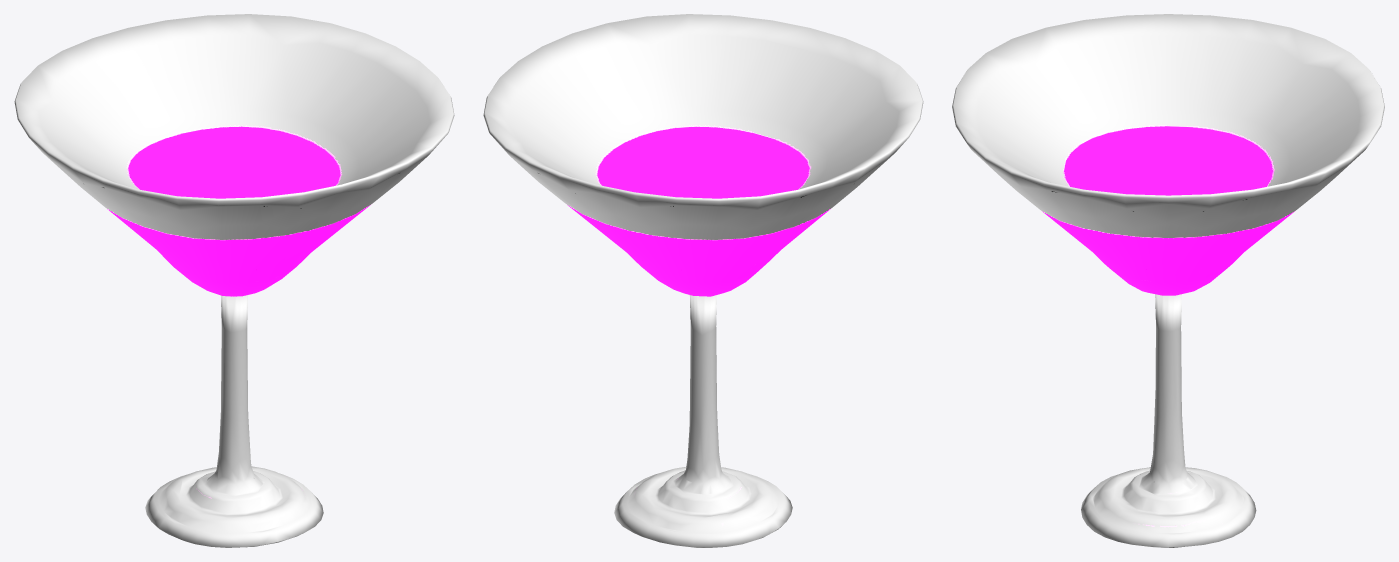
File: drink3_re.fbx
3 renders of one model, left to right at view 1: azimuth 30°, elevation 25°; view 2: azimuth 150°, elevation 25°; view 3: azimuth 270°, elevation 25°, orthographic.
Visible parts, largest first — view 1: drink3_Baked.005; view 2: drink3_Baked.005; view 3: drink3_Baked.005.
Boxes of the visible parts, box(x1,y1,x2,y2) form: drink3_Baked.005: box(14, 14, 454, 547); drink3_Baked.005: box(483, 14, 923, 547); drink3_Baked.005: box(952, 14, 1384, 547).
Size of the model in its own units: 102 by 107 by 102.
1 material, 1 textured.
